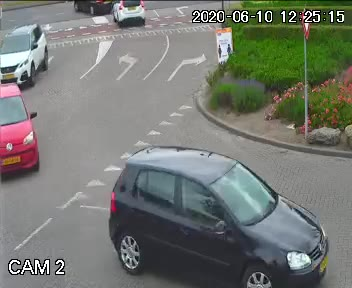car: (91, 136, 334, 288), (0, 92, 47, 181), (0, 21, 50, 88), (102, 0, 150, 31), (73, 0, 118, 15)
